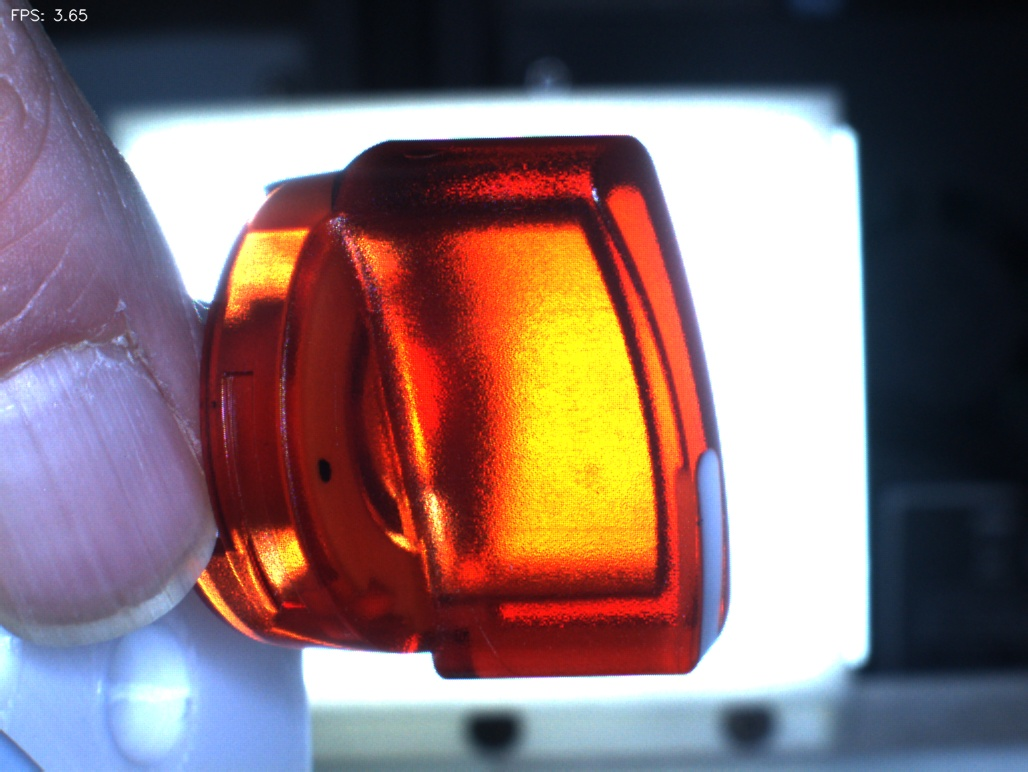PointNoir: (286, 429, 362, 509)
